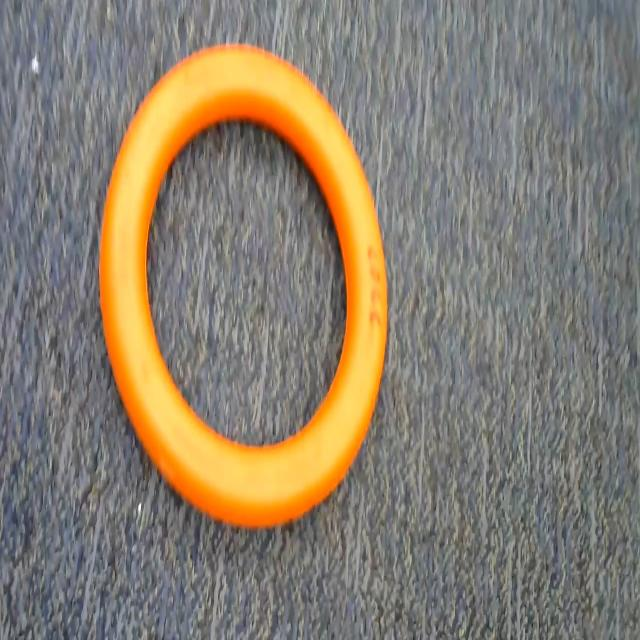note: (99, 39, 394, 543)
